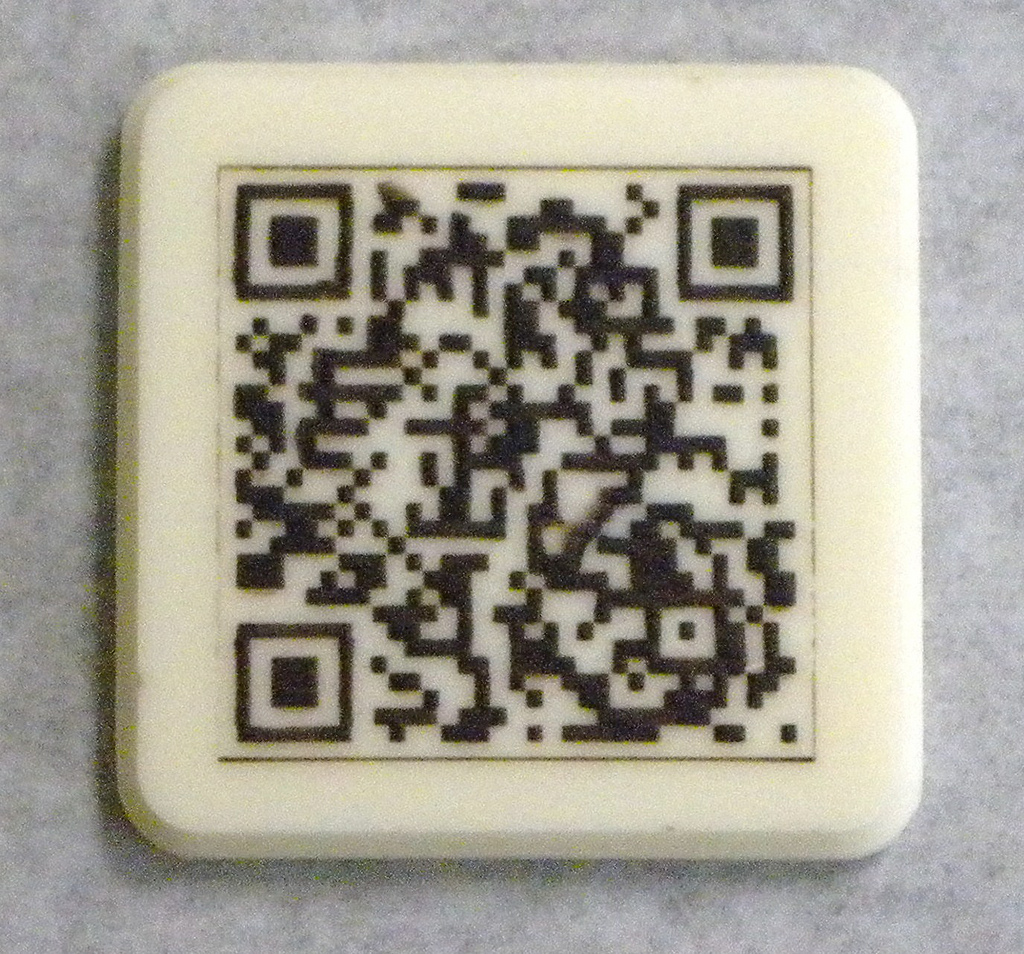QR-CODE: (234, 185, 796, 742)
